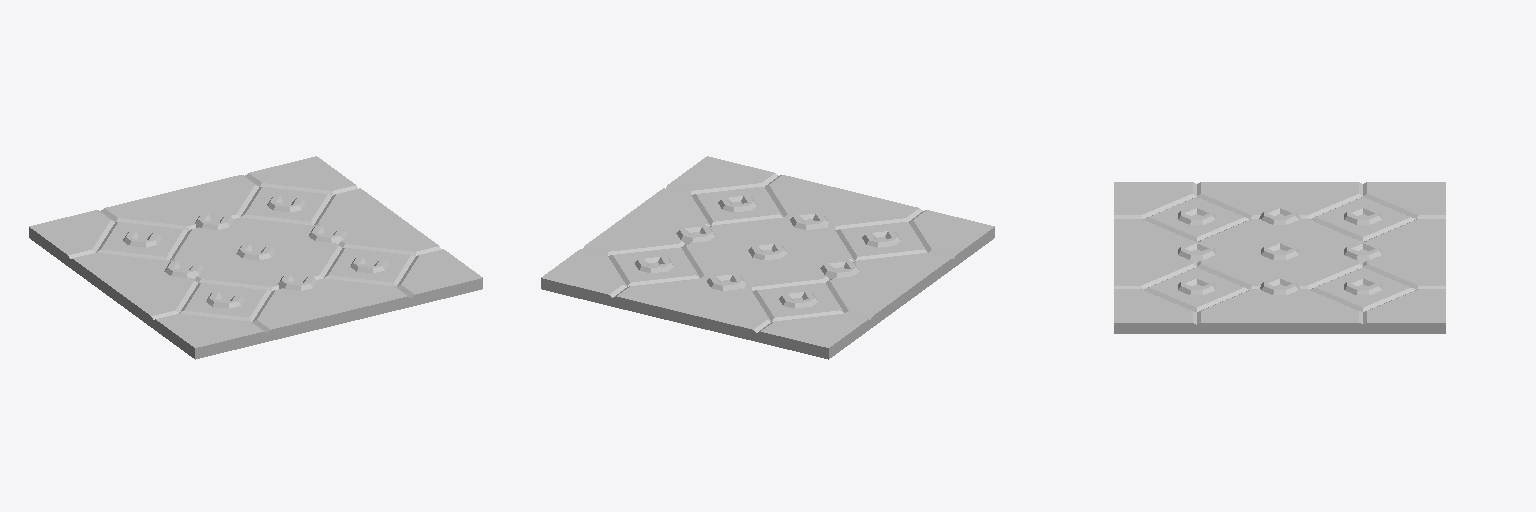
The model's file is floor_tile_big_spikes.obj.
3 views of the same model, side by side, from view 1: azimuth 30°, elevation 25°; view 2: azimuth 150°, elevation 25°; view 3: azimuth 270°, elevation 25° (orthographic).
Visible parts, largest first — view 1: floor_tile_big_spikes; view 2: floor_tile_big_spikes; view 3: floor_tile_big_spikes.
Boxes of the visible parts, <box> form: floor_tile_big_spikes: <box>29,156,482,359</box>; floor_tile_big_spikes: <box>541,156,994,359</box>; floor_tile_big_spikes: <box>1114,182,1445,333</box>.
Bounding box in the file's own units: 4 × 0.2 × 4.